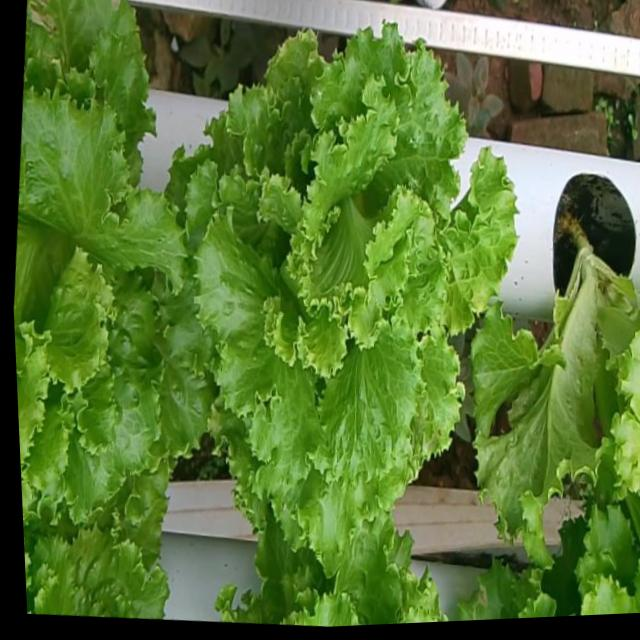Mature: (184, 8, 518, 545), (14, 69, 210, 514)
